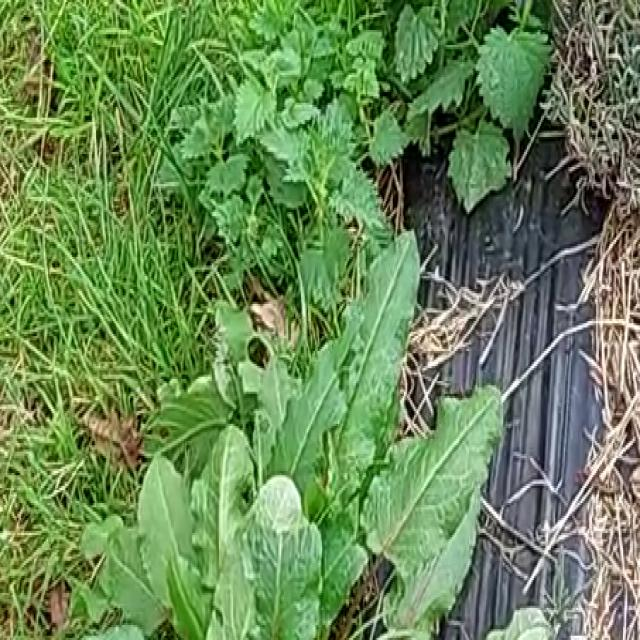organic waste: (68, 199, 518, 640)
